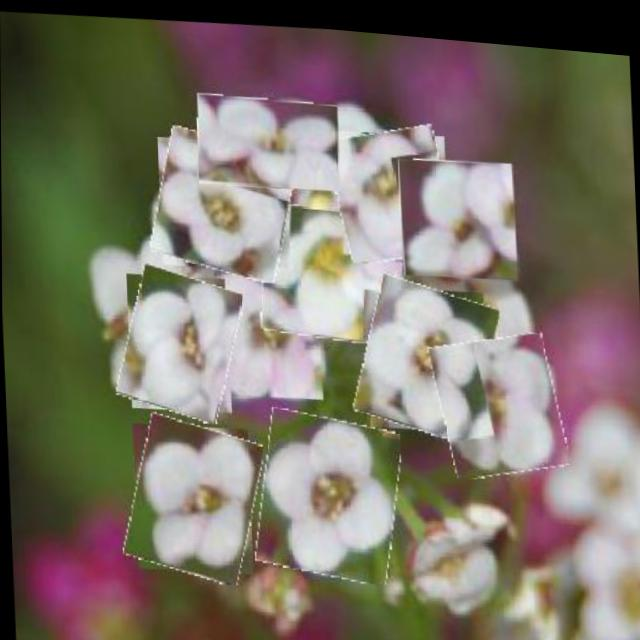Flower: (253, 400, 401, 579), (355, 268, 498, 437), (124, 409, 261, 582), (150, 122, 294, 278), (257, 194, 407, 342), (432, 319, 564, 474), (117, 262, 240, 421), (329, 113, 456, 262), (398, 146, 519, 277), (213, 263, 324, 401), (196, 86, 342, 190)
